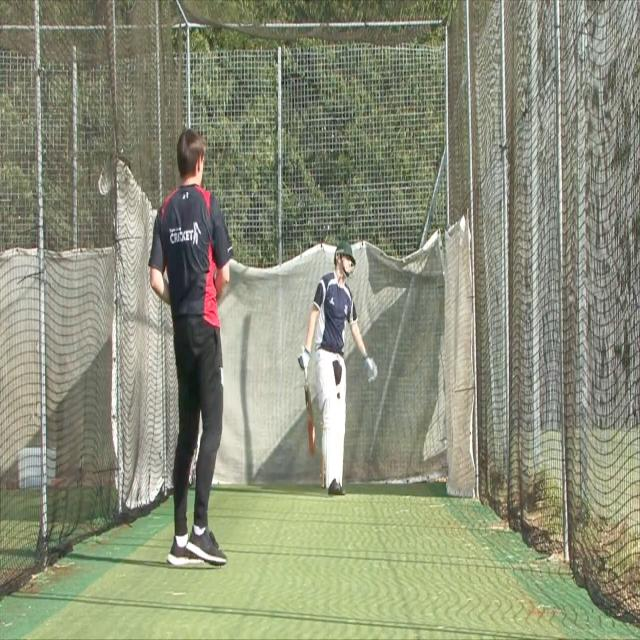batsman: (296, 238, 378, 497)
